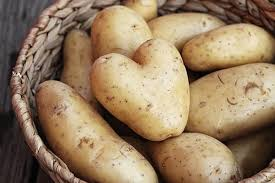potato: (33, 75, 173, 183), (95, 47, 206, 146), (191, 66, 275, 130), (156, 128, 253, 181)
